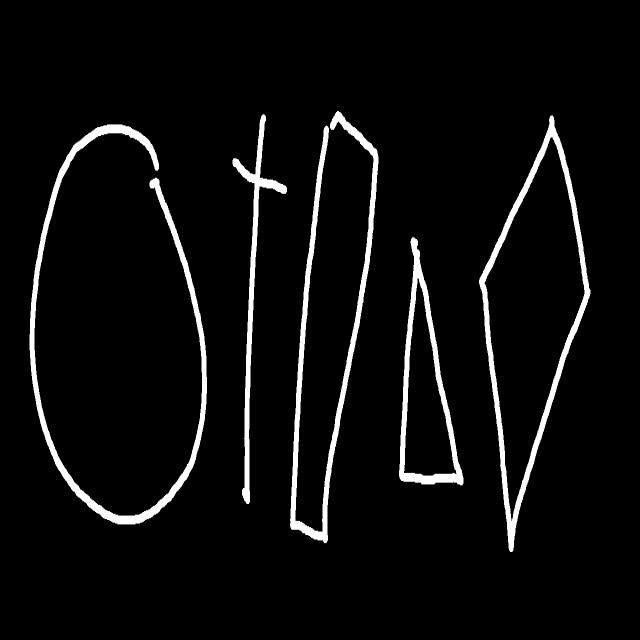circle: (28, 124, 207, 524)
cross: (291, 111, 378, 542), (232, 114, 286, 503)
diamond: (478, 116, 590, 552)
triangle: (399, 237, 463, 484)
